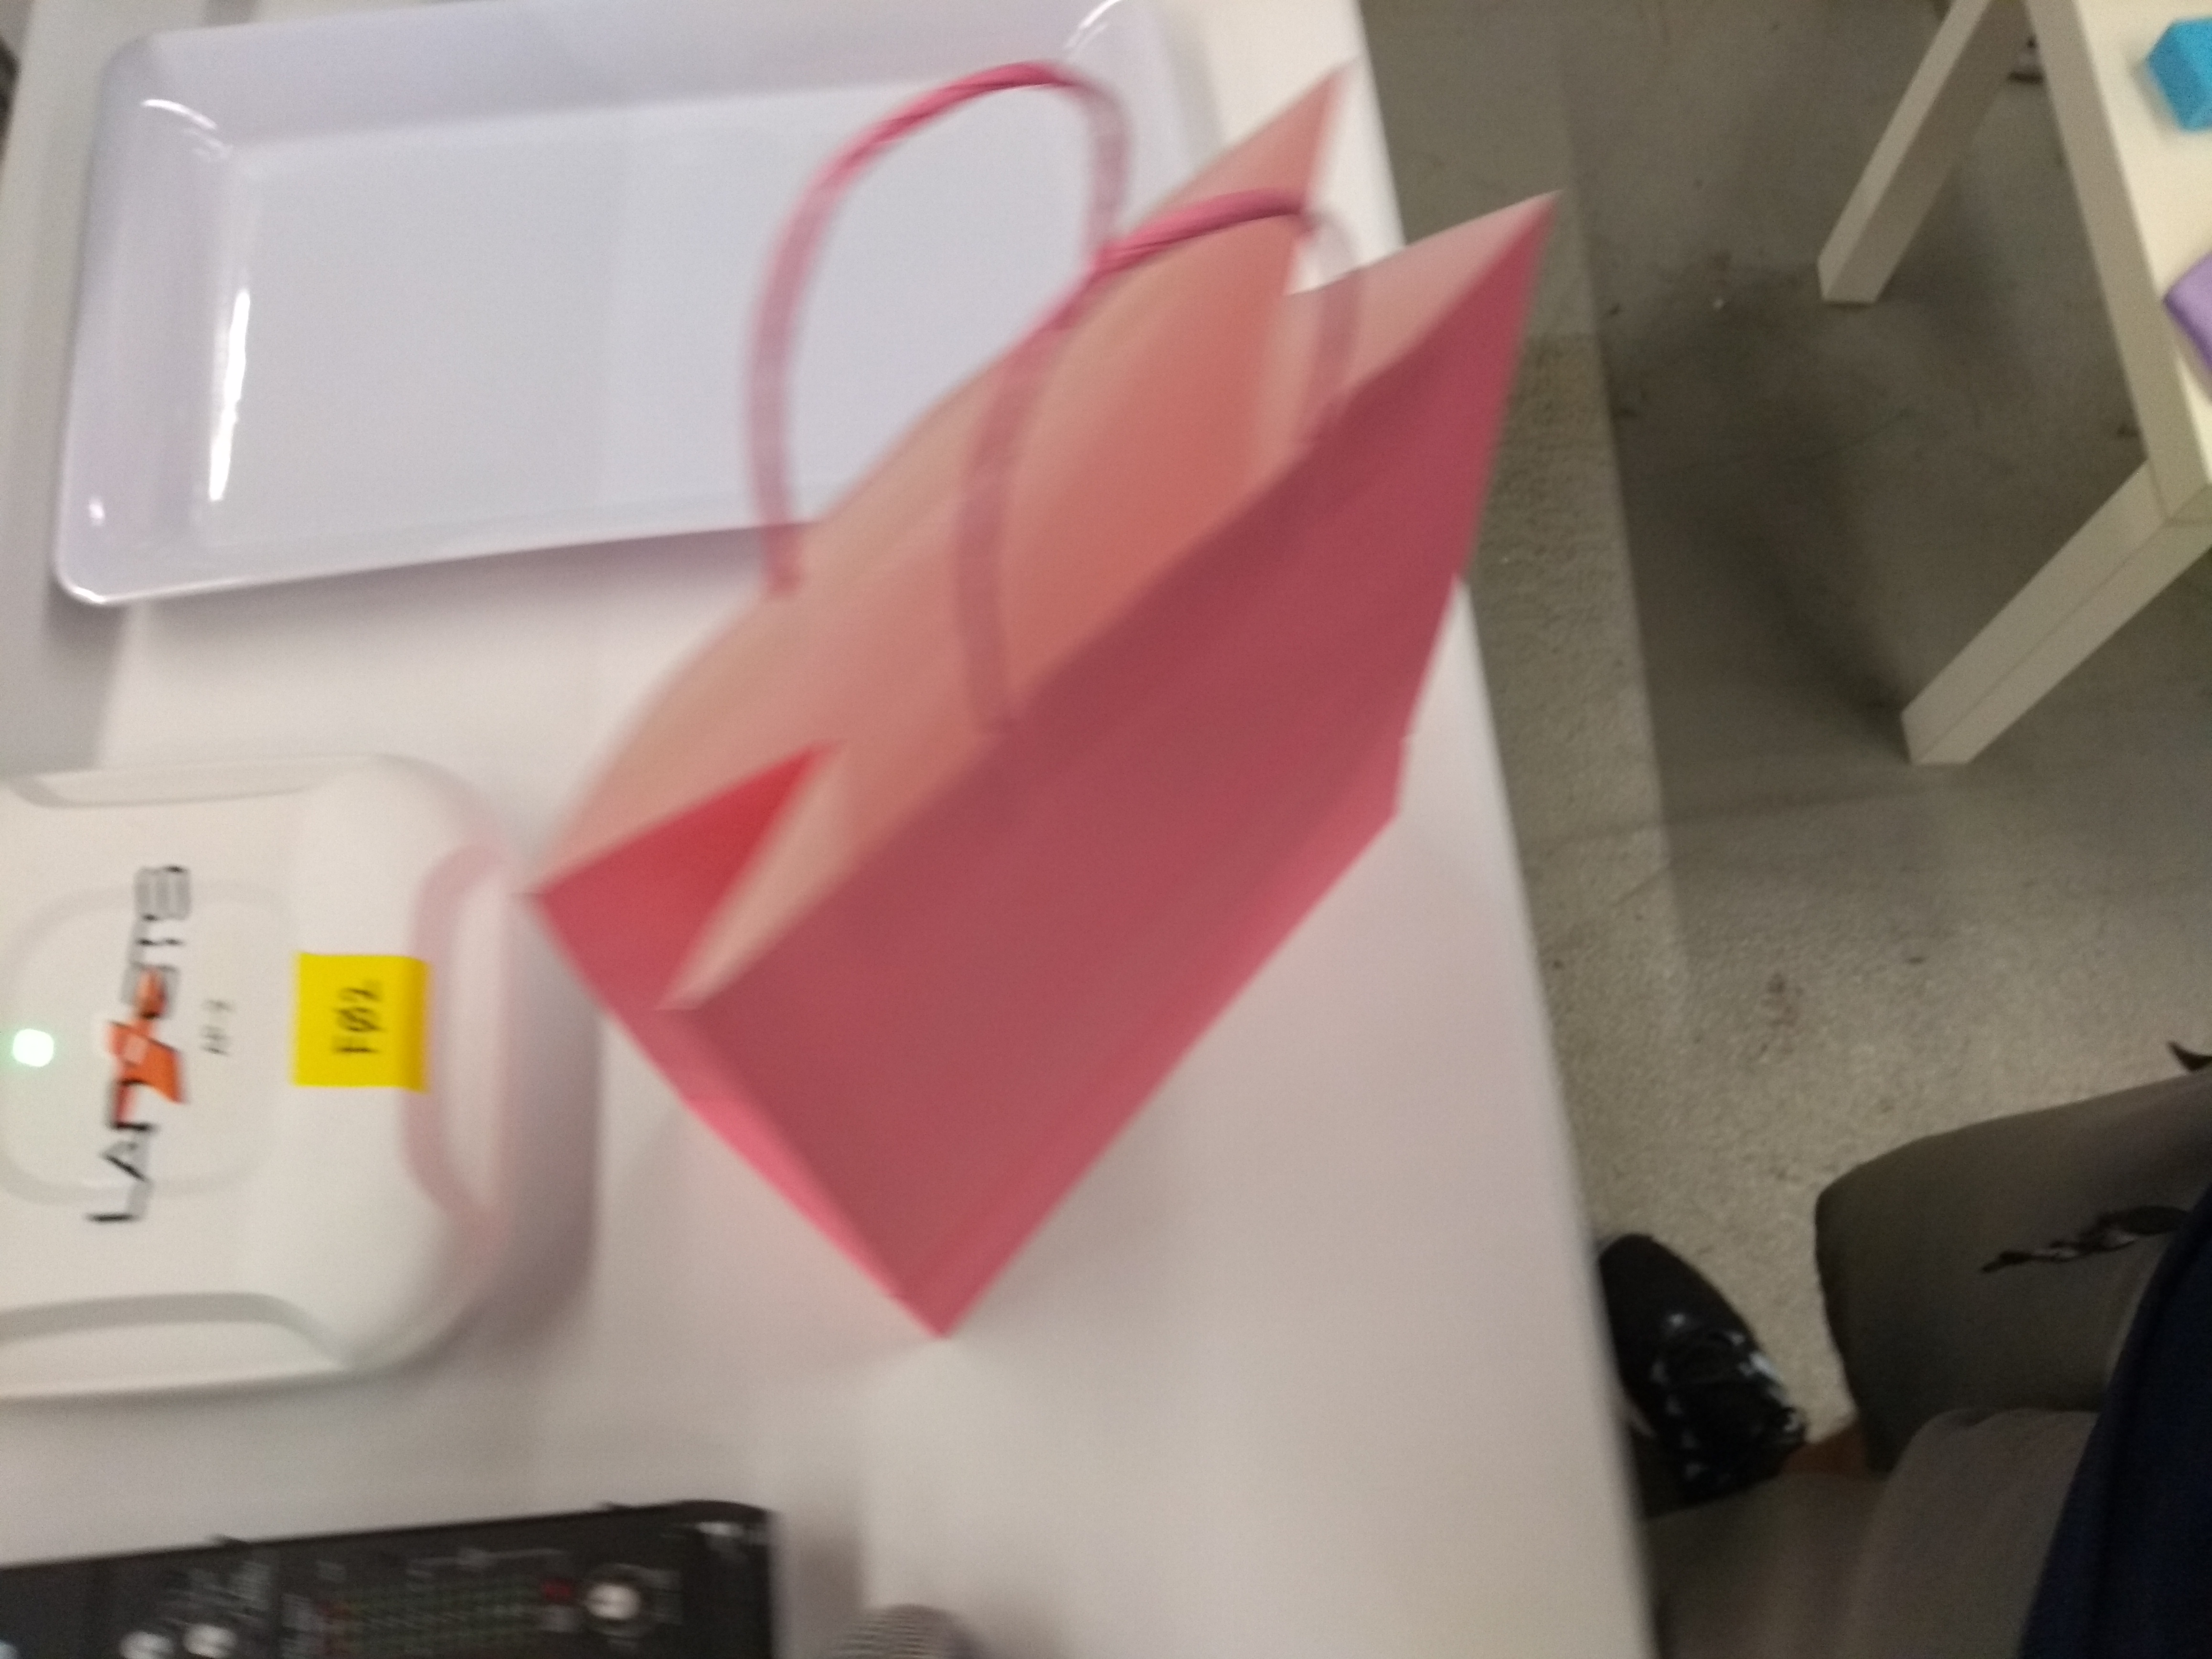help_me_carry_opl: (543, 64, 1562, 1331)
tray: (51, 0, 1205, 612)
